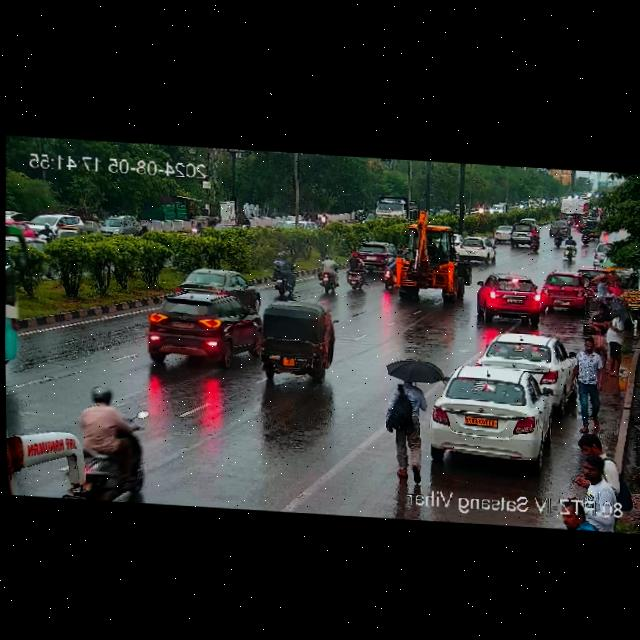bus: (6, 422, 112, 500)
car: (420, 361, 560, 466), (145, 292, 259, 370), (253, 298, 338, 383), (150, 267, 265, 317), (480, 330, 573, 391), (479, 274, 541, 323), (543, 268, 591, 310), (29, 211, 83, 247), (452, 235, 494, 263), (358, 241, 396, 270), (99, 212, 138, 236), (591, 242, 623, 268), (509, 222, 535, 247), (277, 218, 317, 233), (193, 213, 222, 233), (544, 217, 568, 236), (493, 222, 513, 242), (585, 220, 601, 237), (489, 203, 506, 215)
motorcycle: (78, 382, 147, 503), (314, 250, 362, 297), (264, 253, 300, 299), (382, 253, 398, 289), (563, 235, 576, 260), (40, 221, 54, 237), (529, 229, 539, 251), (554, 228, 563, 247), (582, 226, 590, 245), (241, 215, 251, 230), (356, 208, 364, 225), (136, 224, 147, 236), (192, 221, 203, 232), (315, 215, 323, 229), (301, 210, 311, 220), (574, 215, 580, 231), (320, 213, 328, 223), (519, 200, 524, 211), (594, 207, 599, 217), (567, 215, 571, 227), (450, 208, 456, 215)
person: (391, 377, 436, 484), (573, 337, 605, 426), (604, 305, 628, 374), (575, 455, 608, 498), (573, 433, 622, 460), (587, 303, 607, 335), (599, 275, 609, 298), (614, 278, 623, 293)
truck: (395, 217, 463, 302), (377, 194, 420, 222), (560, 196, 591, 216)
